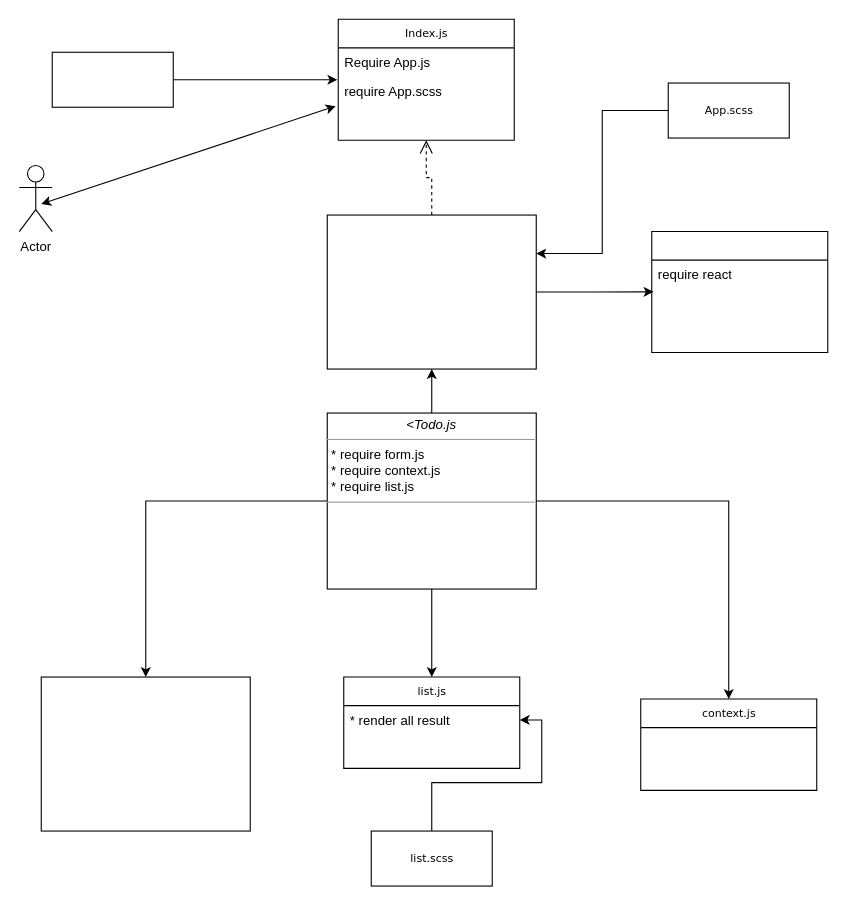
The diagram is 847 pixels wide and 905 high, and some of its shapes have lost their labels. Here are the shapes that lost their labels. From the top down, the box of each, then its label:
(51, 51, 173, 107): Index.html
(326, 214, 536, 369): App.js + require React * require settings * require Todo * require Header
(651, 230, 828, 353): Header.js
(40, 676, 250, 831): form.js * useForm * use state * use Effect
